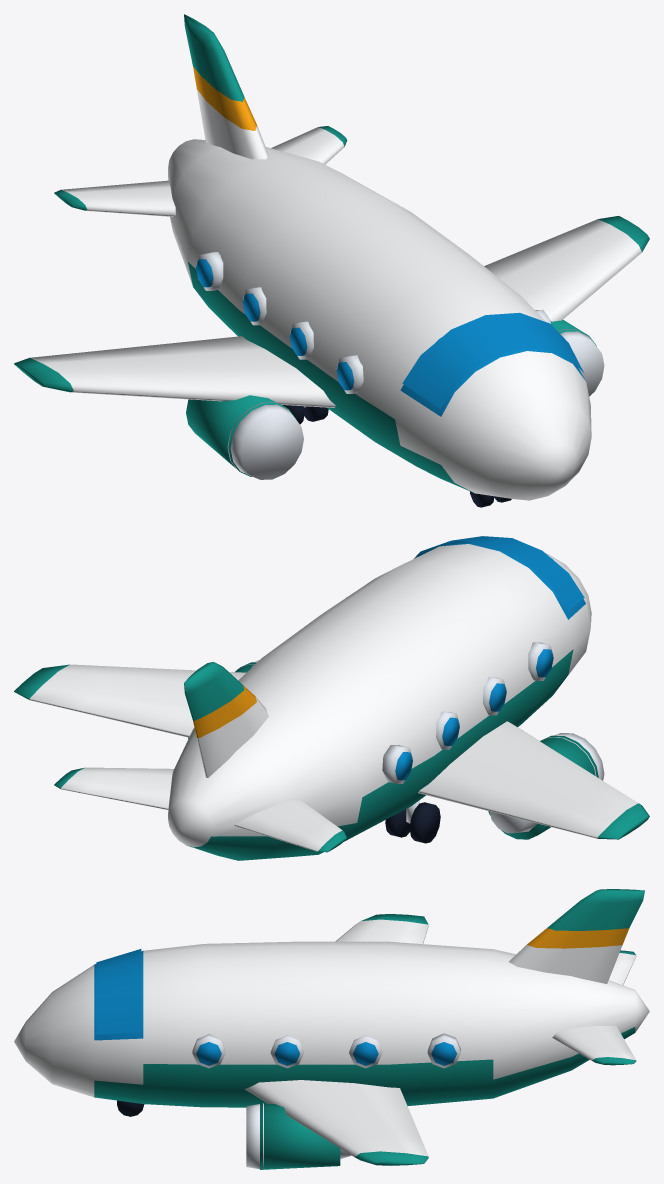
The model's file is vehicle_plane.glb.
3 renders of one model, top to bottom at view 1: azimuth 30°, elevation 25°; view 2: azimuth 150°, elevation 25°; view 3: azimuth 270°, elevation 25°, orthographic. The views are drawn at different scales.
Visible parts, largest first — view 1: Vehicle_Plane; view 2: Vehicle_Plane; view 3: Vehicle_Plane.
Part boxes in pixels (x1=…): Vehicle_Plane: x1=14, y1=14, x2=649, y2=507; Vehicle_Plane: x1=14, y1=536, x2=649, y2=860; Vehicle_Plane: x1=14, y1=889, x2=649, y2=1169.
Bounding box in the file's own units: 0.596 × 0.252 × 0.649.
